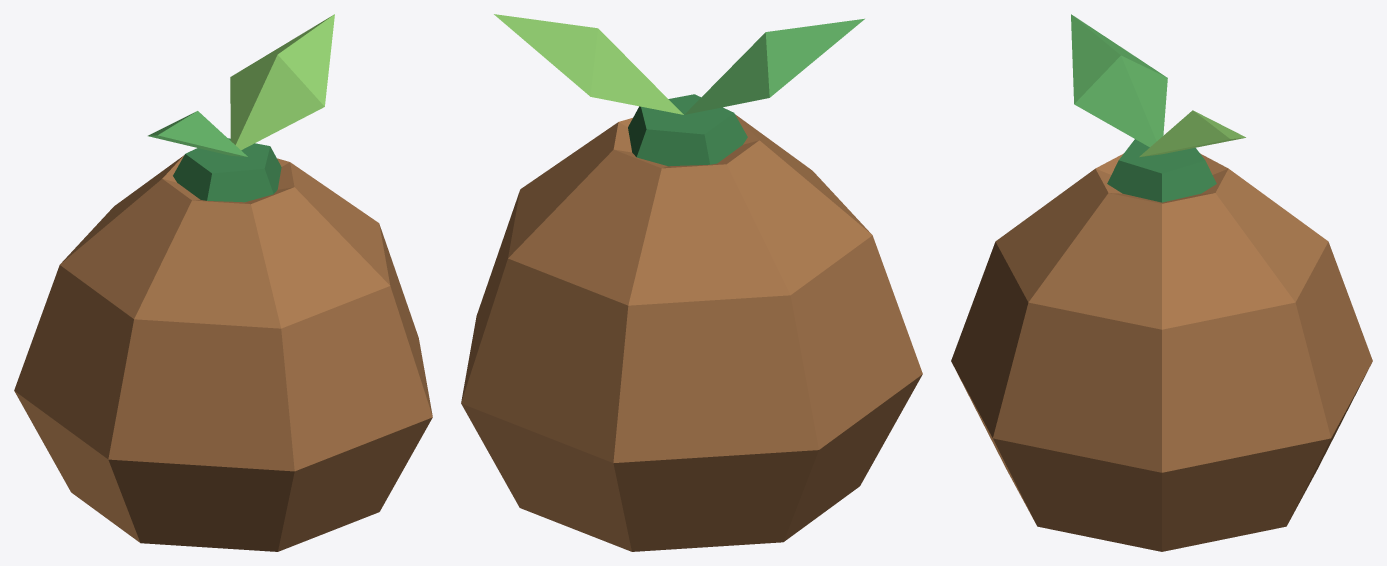
The model's file is item_compost.glb.
3 renders of one model, left to right at view 1: azimuth 30°, elevation 25°; view 2: azimuth 150°, elevation 25°; view 3: azimuth 270°, elevation 25°, orthographic. The views are drawn at different scales.
Visible parts, largest first — view 1: item_compost; view 2: item_compost; view 3: item_compost.
Part boxes in pixels (<box>): item_compost: <box>14,14,432,551</box>; item_compost: <box>461,14,922,551</box>; item_compost: <box>951,14,1372,551</box>.
Size of the model in its own units: 0.1806 by 0.2 by 0.1852.
